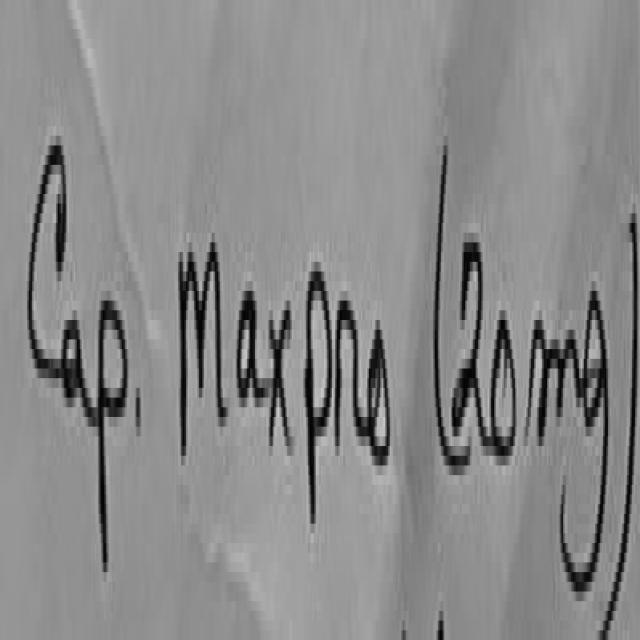0: (492, 310, 518, 451)
2: (454, 242, 491, 441)
C: (27, 136, 66, 373)
M: (178, 233, 228, 451)
a: (237, 285, 266, 411), (61, 310, 96, 412)
g: (563, 281, 610, 587)
m: (526, 320, 582, 441)
o: (369, 320, 391, 461)
p: (98, 301, 127, 567), (305, 262, 332, 519)
r: (335, 291, 369, 441)
x: (269, 301, 292, 446)
